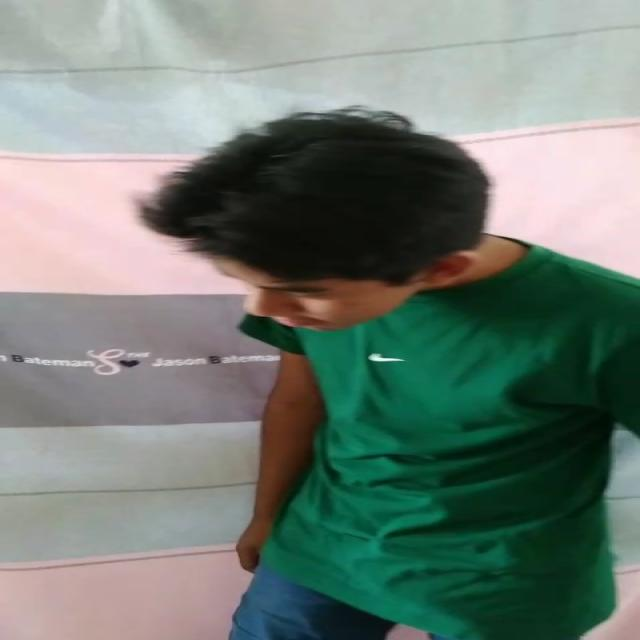9_cabeza_baja: (135, 111, 488, 332)
